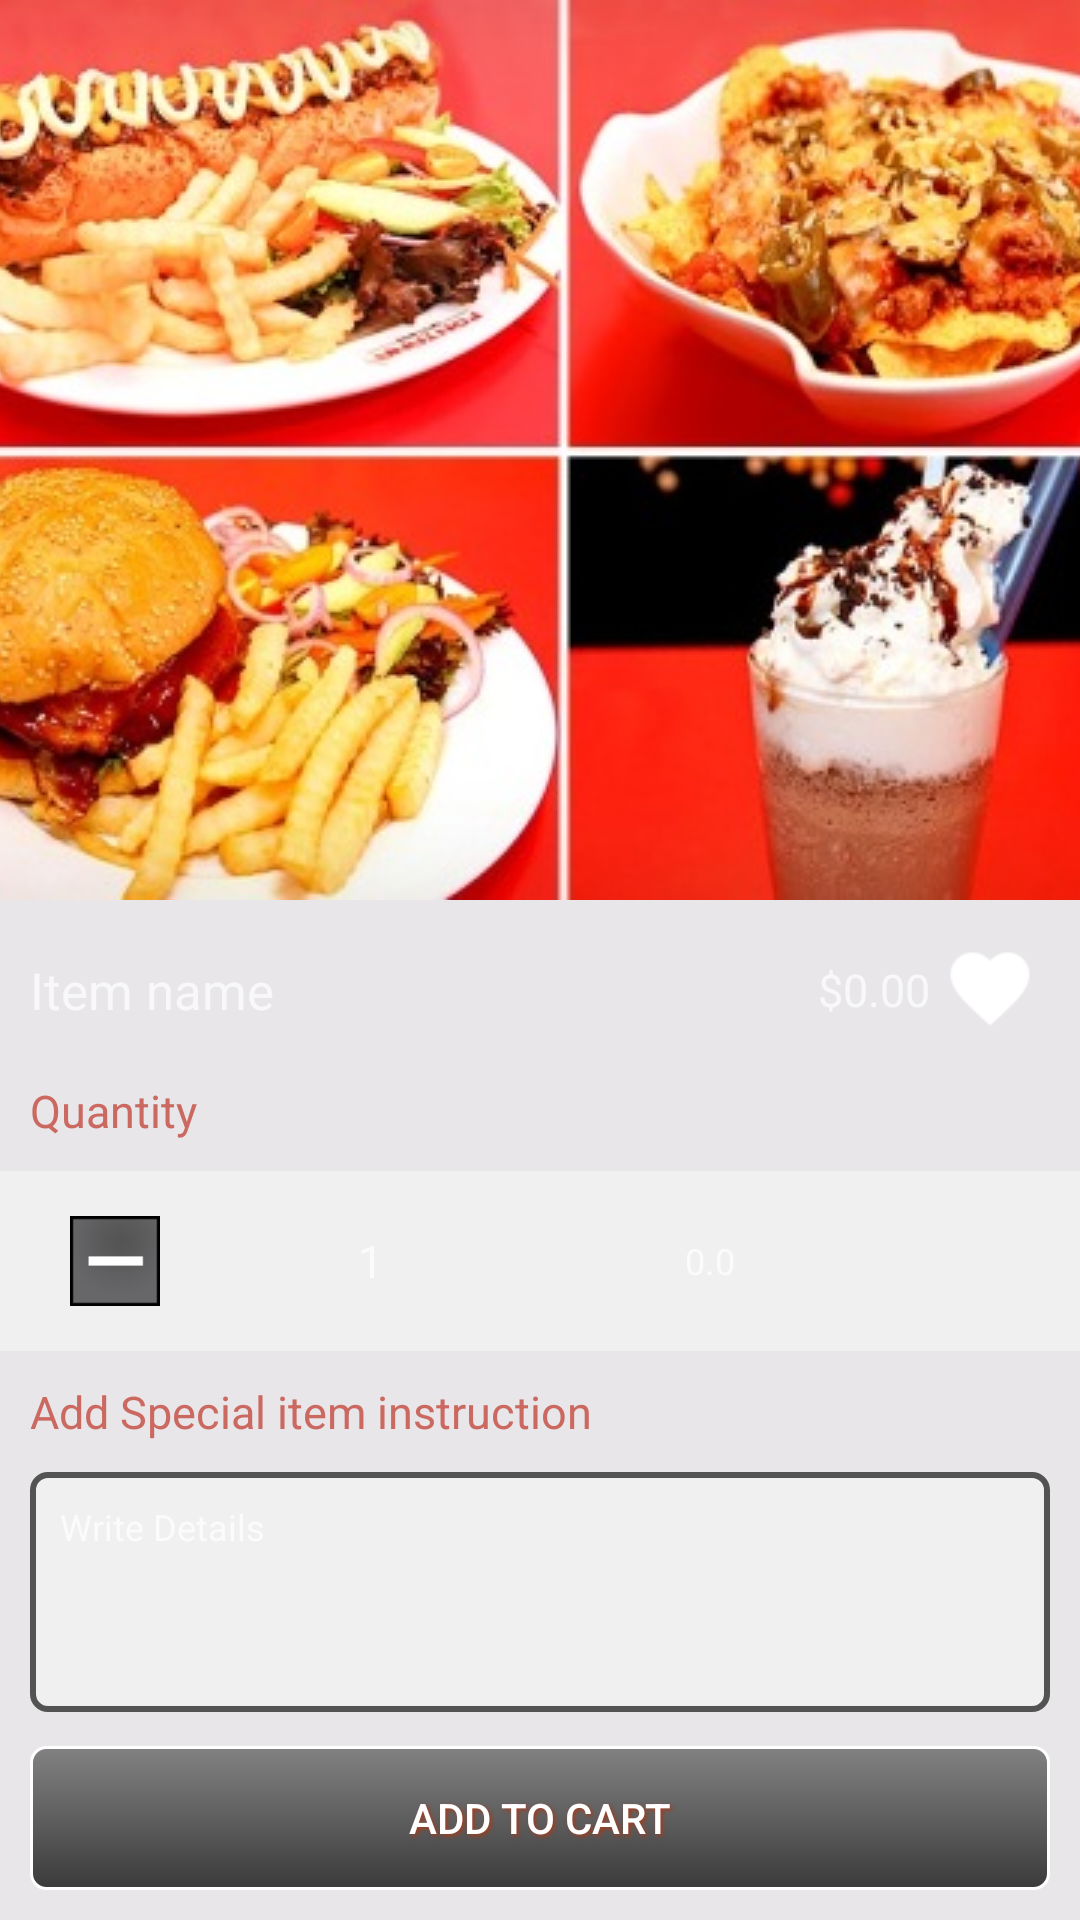

Named icons in this screenshot (1080 x 1920) and their bounding boxes, (x1, y1, x2, y2):
dec: (70, 1216, 160, 1306)
favourite: (953, 955, 1027, 1023)
